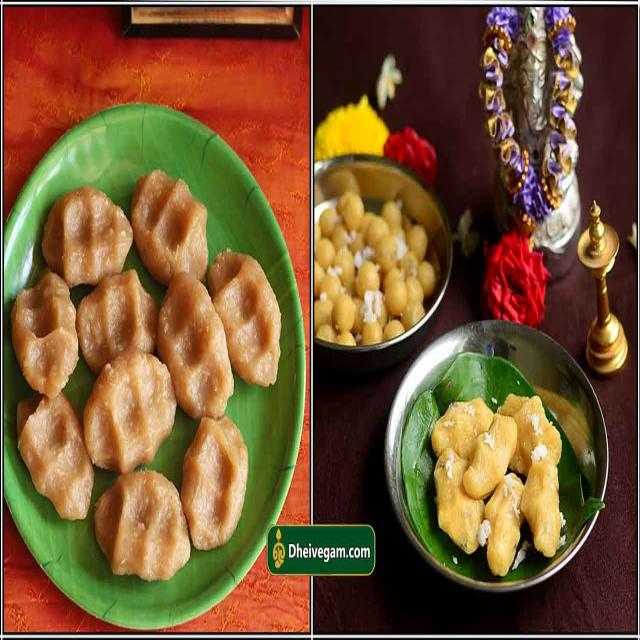pidi kolukattai: (4, 126, 295, 605), (425, 362, 571, 571)
